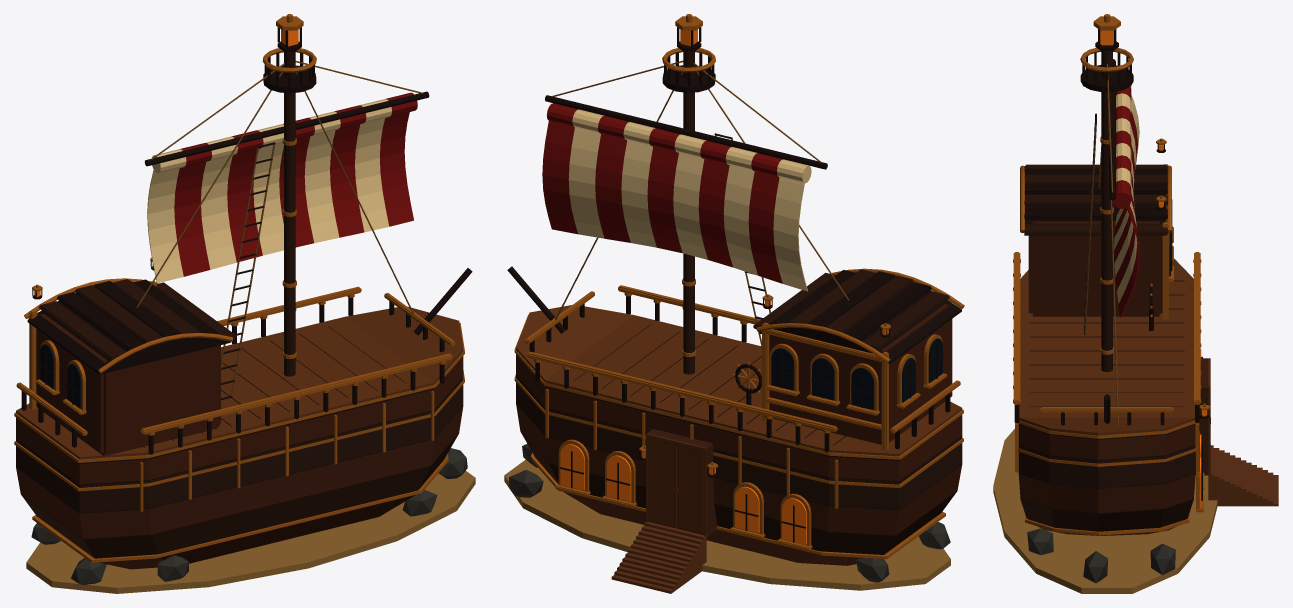
File: beached-galleon-visual.obj
The picture shows the model from 3 angles, left to right: view 1: azimuth 30°, elevation 25°; view 2: azimuth 150°, elevation 25°; view 3: azimuth 270°, elevation 25°; orthographic projection.
Visible parts, largest first — view 1: HullCourses, HouseFX_SailDecor, SternCabin, Deck, Ground, Mast, HullTrim, Rails, Rigging, Windows, LanternFrames; view 2: HouseFX_SailDecor, HullCourses, SternCabin, Deck, Ground, Windows, Rails, HullTrim, Mast, Rigging, HouseDoorLeaf_R_Panel, HouseDoorLeaf_L_Panel (+2 smaller); view 3: Deck, SternCabin, HullCourses, Ground, Mast, HouseFX_SailDecor, Rails, HullTrim, Rigging, LanternFrames, Windows, WalkPassageLeft.
Boxes of the visible parts, x1,y1,x2,y2 form: HullCourses: (16, 356, 463, 569); HouseFX_SailDecor: (147, 92, 417, 283); SternCabin: (24, 278, 236, 456); Deck: (16, 306, 463, 459); Ground: (26, 448, 475, 593); Mast: (144, 48, 429, 376); HullTrim: (14, 322, 464, 562); Rails: (16, 286, 455, 454); Rigging: (136, 61, 472, 400); Windows: (35, 340, 86, 414); LanternFrames: (32, 14, 303, 299); HouseFX_SailDecor: (542, 103, 811, 291); HullCourses: (516, 354, 962, 565); SternCabin: (753, 268, 964, 450); Deck: (516, 305, 962, 456); Ground: (504, 444, 950, 590); Windows: (555, 334, 947, 550); Rails: (524, 285, 960, 452); HullTrim: (514, 314, 963, 559); Mast: (545, 48, 827, 374); Rigging: (507, 60, 848, 405); HouseDoorLeaf_R_Panel: (677, 446, 703, 533); HouseDoorLeaf_L_Panel: (648, 439, 674, 526); Deck: (1019, 258, 1194, 435); SternCabin: (1020, 164, 1171, 319); HullCourses: (1018, 423, 1195, 535); Ground: (993, 429, 1217, 593); Mast: (1080, 47, 1133, 371); HouseFX_SailDecor: (1113, 86, 1139, 317); Rails: (1013, 252, 1201, 425); HullTrim: (1015, 420, 1199, 535); Rigging: (1084, 61, 1153, 425); LanternFrames: (1093, 14, 1210, 418); Windows: (1169, 199, 1204, 512); WalkPassageLeft: (1195, 389, 1208, 474).
Bounding box in the file's own units: 62.03 × 68.69 × 35.88.
